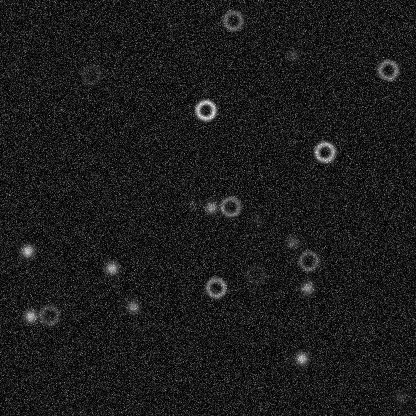Ring: (312, 139, 336, 163), (79, 62, 103, 86), (218, 194, 242, 218), (220, 8, 244, 32), (193, 98, 217, 122), (296, 248, 320, 272), (37, 303, 61, 327), (203, 275, 227, 299), (376, 57, 400, 81), (243, 262, 267, 286)
Spot: (124, 298, 140, 314), (103, 260, 119, 276), (22, 308, 38, 324), (284, 233, 300, 249), (293, 350, 309, 366), (19, 243, 35, 259), (203, 199, 219, 215), (392, 388, 408, 404), (299, 279, 315, 295), (284, 46, 300, 62), (184, 196, 200, 212), (248, 212, 264, 228)
